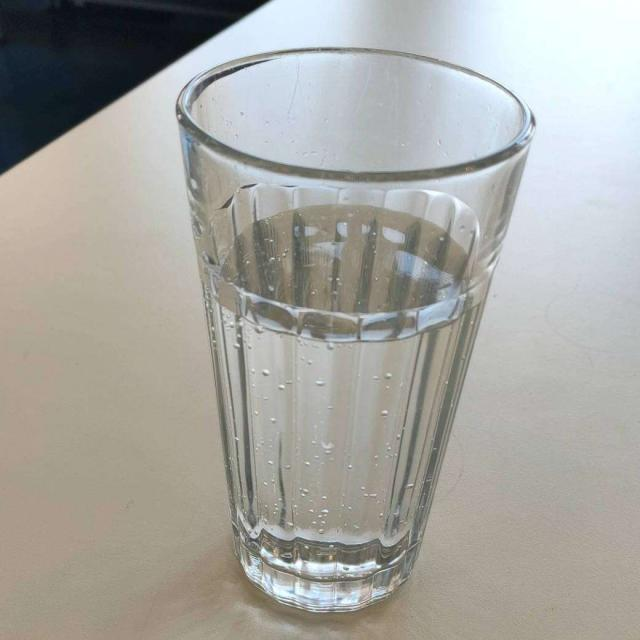water: (205, 174, 508, 586)
